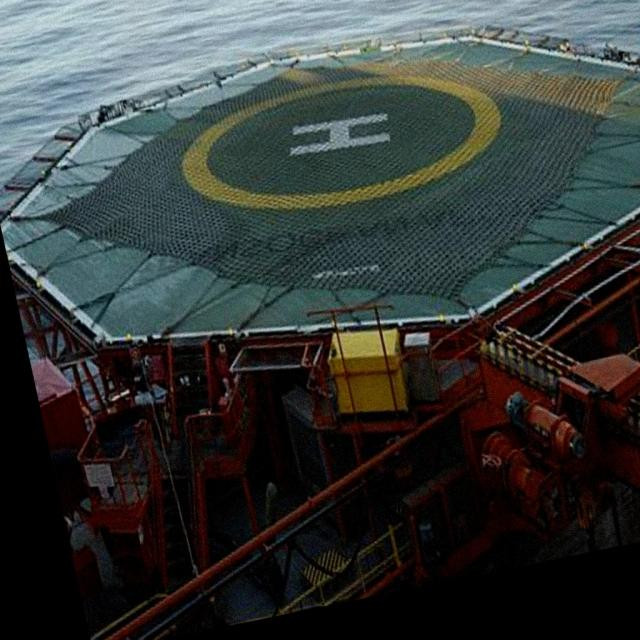helipad: (174, 73, 505, 213)
